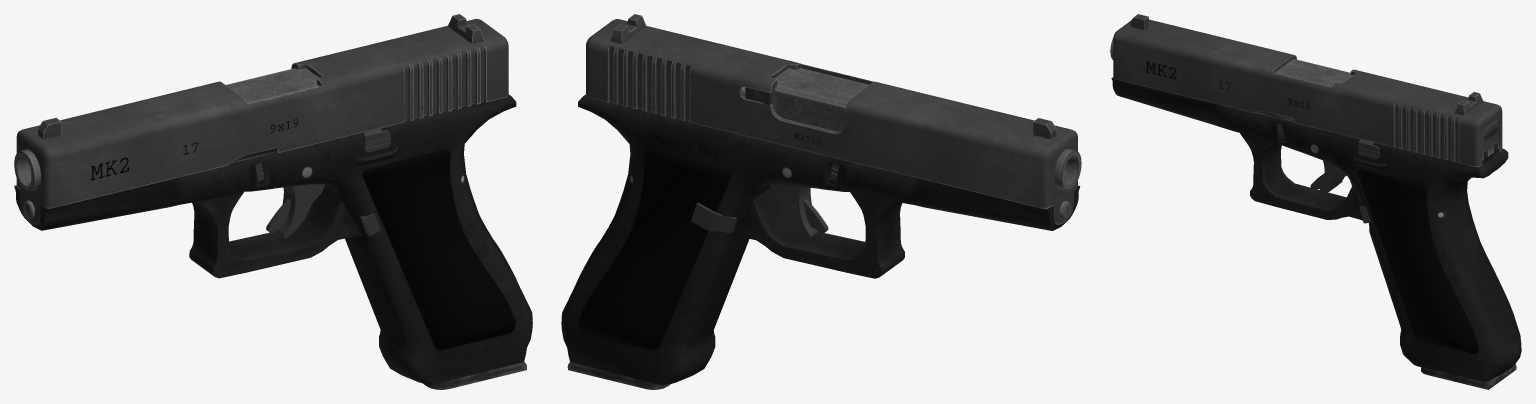
Rendered from 9mm_pistol.glb.
3 views of the same model, side by side, from view 1: azimuth 30°, elevation 25°; view 2: azimuth 150°, elevation 25°; view 3: azimuth 330°, elevation 25° (orthographic). The views are drawn at different scales.
Visible parts, largest first — view 1: Cube.005 (×2); view 2: Cube.005 (×2); view 3: Cube.005 (×2).
Boxes of the visible parts, bbox=[...] form: Cube.005 (×2): bbox=[14, 14, 532, 389]; Cube.005 (×2): bbox=[561, 14, 1081, 389]; Cube.005 (×2): bbox=[1110, 14, 1521, 389].
Bounding box in the file's own units: 2.4 × 1.58 × 0.334.
Materials: 2 (2 with a texture image).
